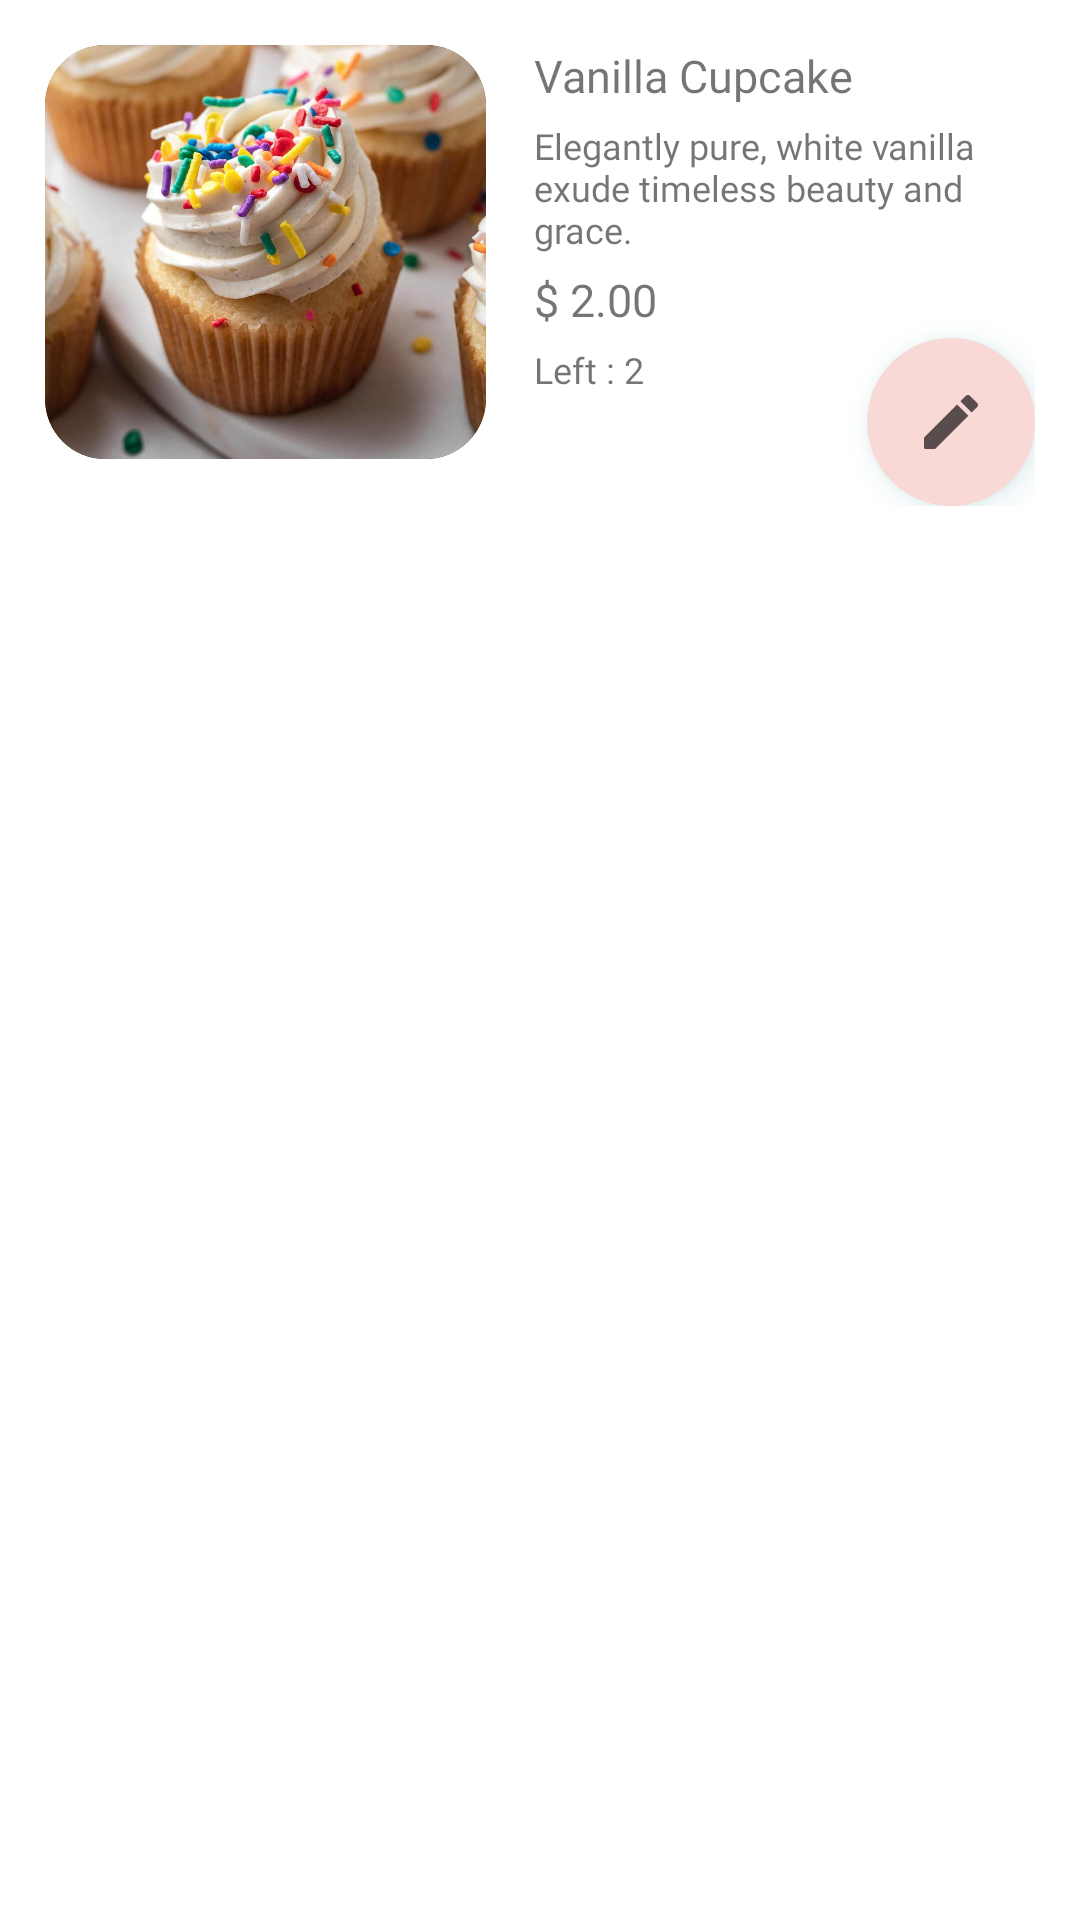

Icon bounding boxes for this 1080w x 1920h phone screenshot, format box=[x1, y1, x2, y2]:
edit: box=[867, 338, 1035, 506]
